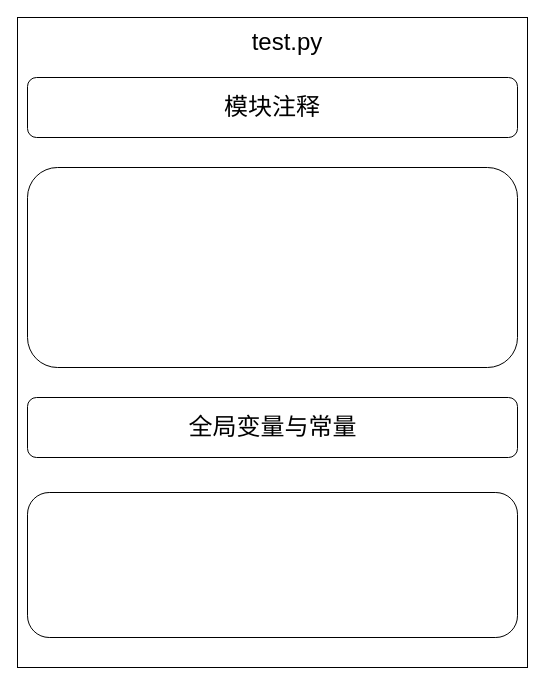
The diagram is 545 pixels wide and 685 high, and some of its shapes have lost their labels. Each missing label, with the centre of its shape:
"实现功能逻辑的类与函数" goes at point (272, 565).
"导入 1.标准库导入 2.相关的第三方库导入 3.本地应用程序/库特定的导入" goes at point (272, 267).
